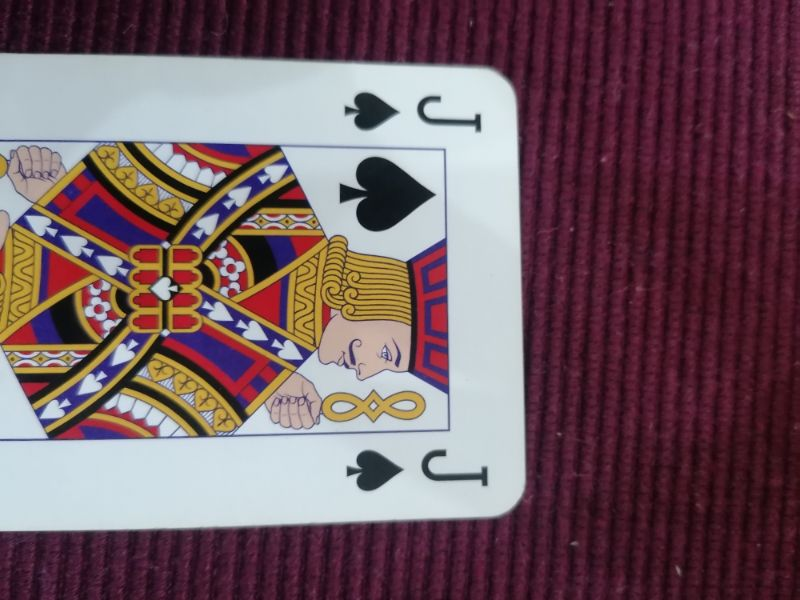Js: (343, 442, 496, 500), (339, 87, 493, 135)
